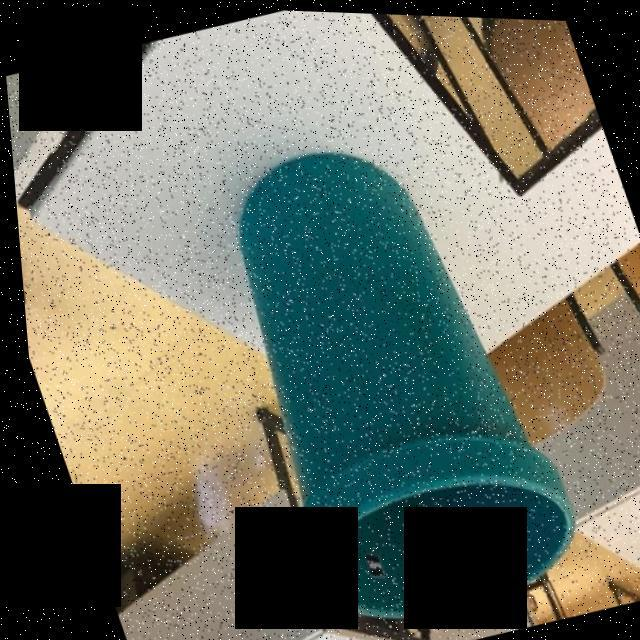bin: (146, 96, 602, 640)
